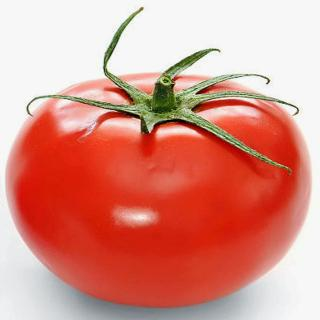Tomat: (2, 39, 320, 312)
